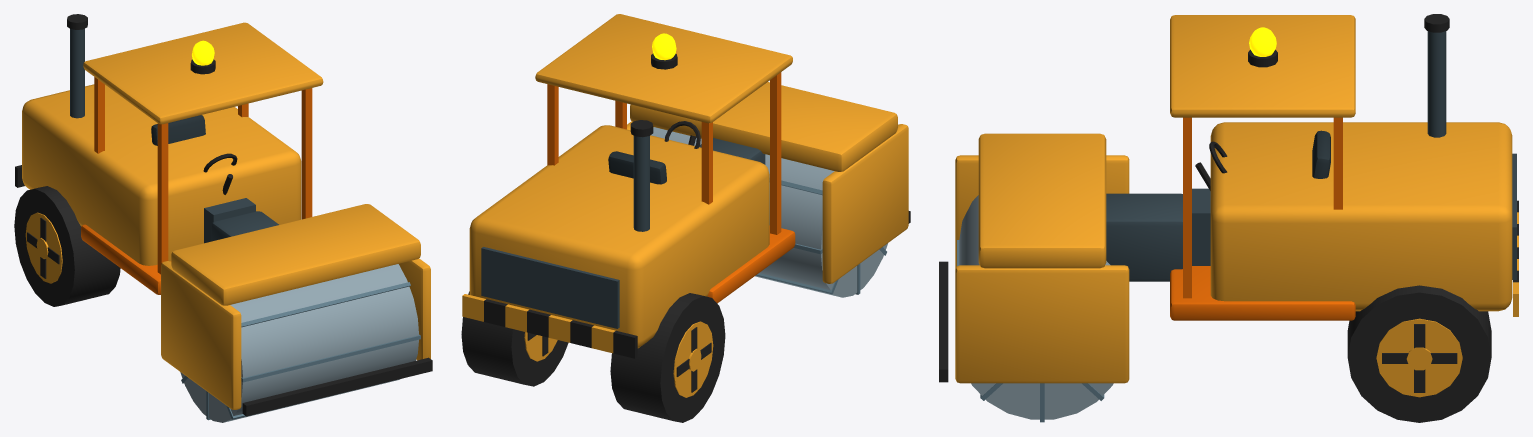
Rendered from roadevents_steamroller.glb.
3 renders of one model, left to right at view 1: azimuth 30°, elevation 25°; view 2: azimuth 150°, elevation 25°; view 3: azimuth 270°, elevation 25°, orthographic. The views are drawn at different scales.
Parts seen in each view (by area): view 1: Steamroller_body, Wheel_F, Wheel_RR; view 2: Steamroller_body, Wheel_RR, Wheel_F, Wheel_RL; view 3: Steamroller_body, Wheel_RL, Wheel_F.
Boxes of the visible parts, x1=… form: Steamroller_body: x1=15, y1=14, x2=432, y2=416; Wheel_F: x1=180, y1=264, x2=420, y2=422; Wheel_RR: x1=14, y1=186, x2=120, y2=306; Steamroller_body: x1=462, y1=14, x2=910, y2=358; Wheel_RR: x1=610, y1=293, x2=725, y2=422; Wheel_F: x1=651, y1=127, x2=887, y2=297; Wheel_RL: x1=461, y1=291, x2=568, y2=386; Steamroller_body: x1=939, y1=14, x2=1518, y2=383; Wheel_RL: x1=1347, y1=285, x2=1491, y2=422; Wheel_F: x1=957, y1=195, x2=1113, y2=422.
Bounding box in the file's own units: 2.36 × 3.25 × 4.99.
